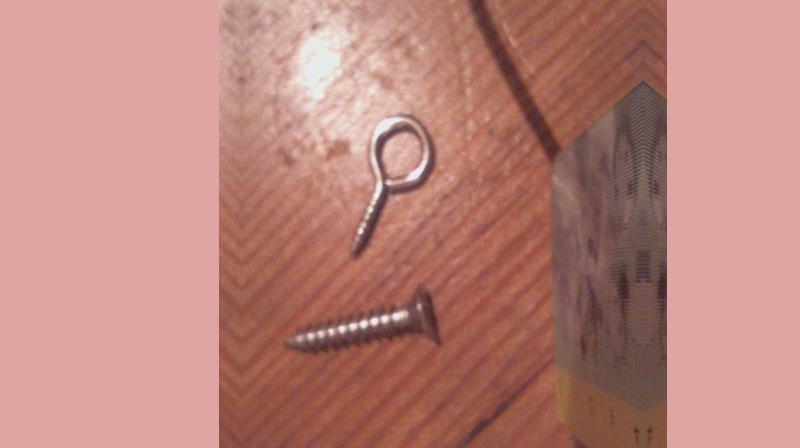O001: (348, 112, 436, 265)
S001: (281, 285, 439, 356)
